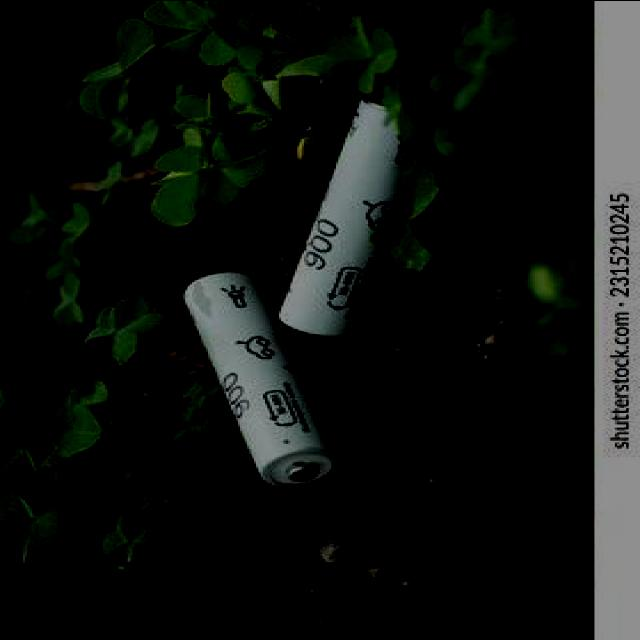AAA: (272, 85, 445, 338), (177, 267, 343, 490)
